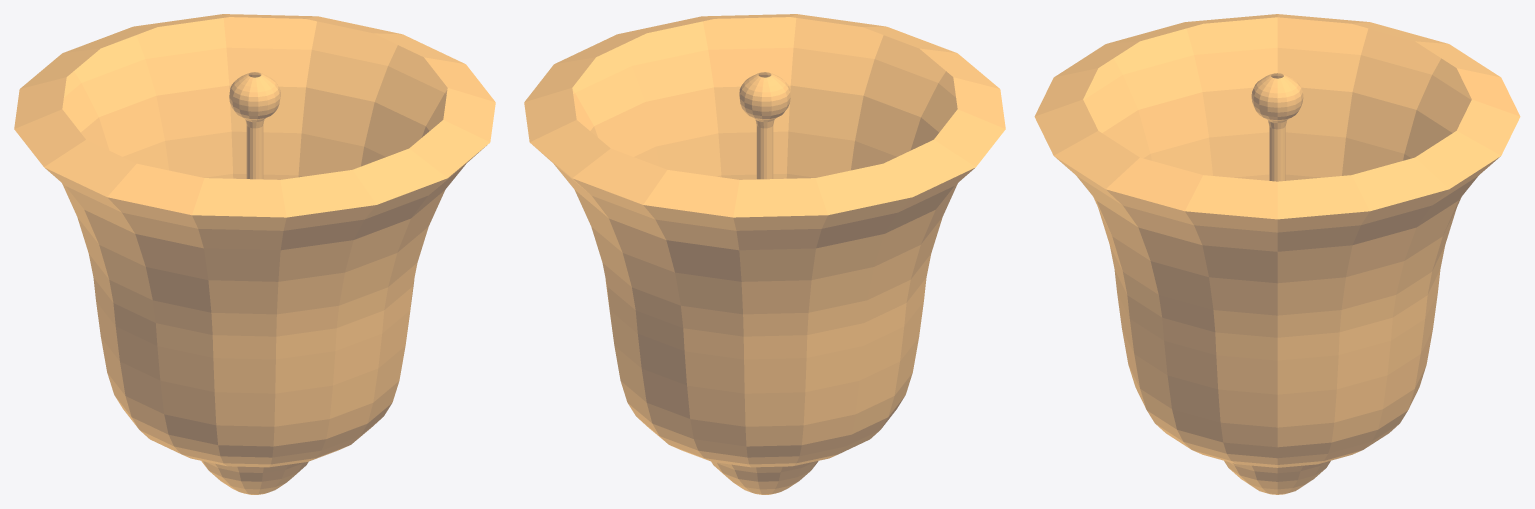
3 views of the same model, side by side, from view 1: azimuth 30°, elevation 25°; view 2: azimuth 150°, elevation 25°; view 3: azimuth 270°, elevation 25° (orthographic).
Parts seen in each view (by area): view 1: Bell_Material.001_0; view 2: Bell_Material.001_0; view 3: Bell_Material.001_0.
Boxes of the visible parts, x1,y1,x2,y2 form: Bell_Material.001_0: (14, 14, 495, 494); Bell_Material.001_0: (524, 14, 1005, 494); Bell_Material.001_0: (1034, 14, 1520, 494).
Size of the model in its own units: 21.93 by 20.51 by 21.93.
